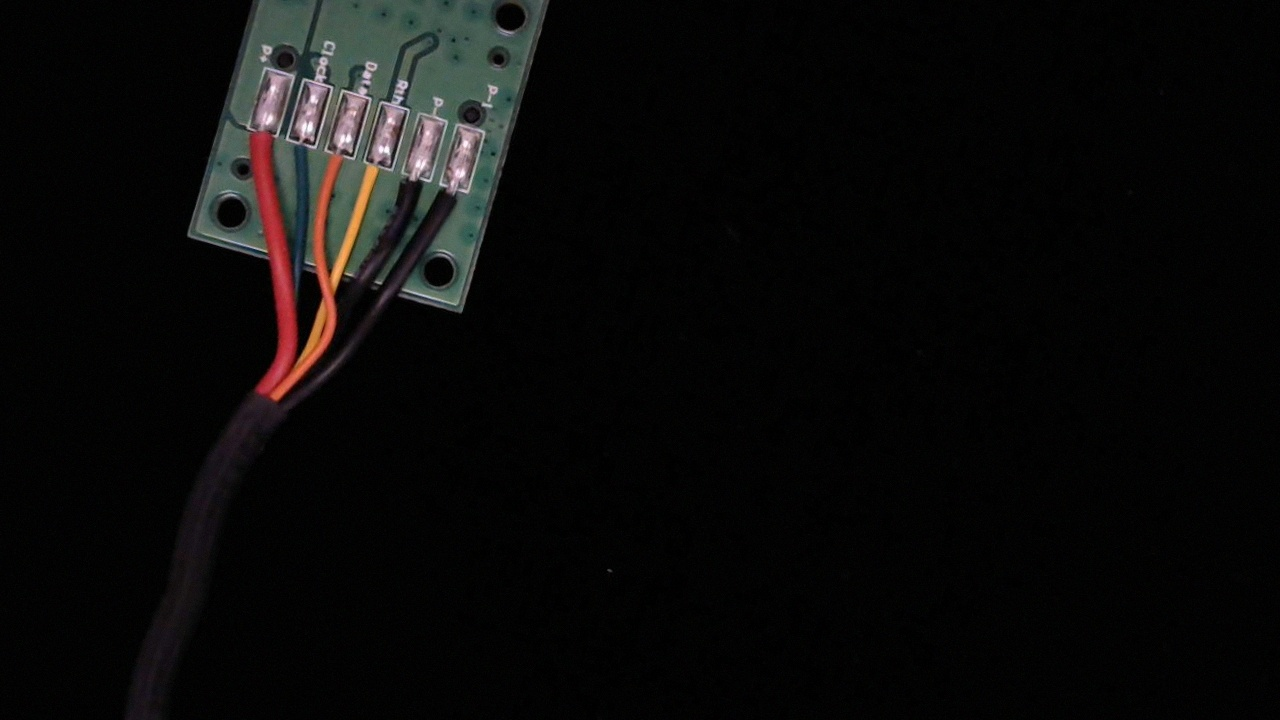Black: (385, 157, 437, 227)
Black1: (422, 168, 474, 242)
Green: (273, 122, 322, 188)
Orange: (309, 136, 359, 206)
Red: (229, 113, 283, 191)
Yellow: (346, 144, 396, 216)
